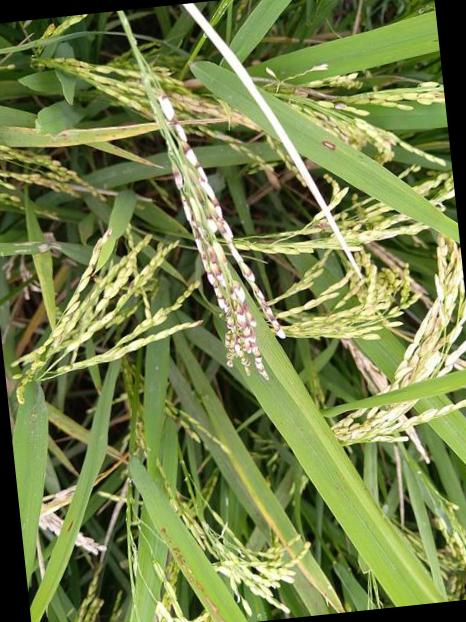Leaf Streak: (161, 528, 235, 622)
Panicle Blight: (158, 93, 286, 338), (171, 161, 266, 377), (43, 155, 87, 183), (304, 216, 331, 230), (334, 99, 347, 109), (205, 213, 215, 224), (339, 132, 348, 143)
